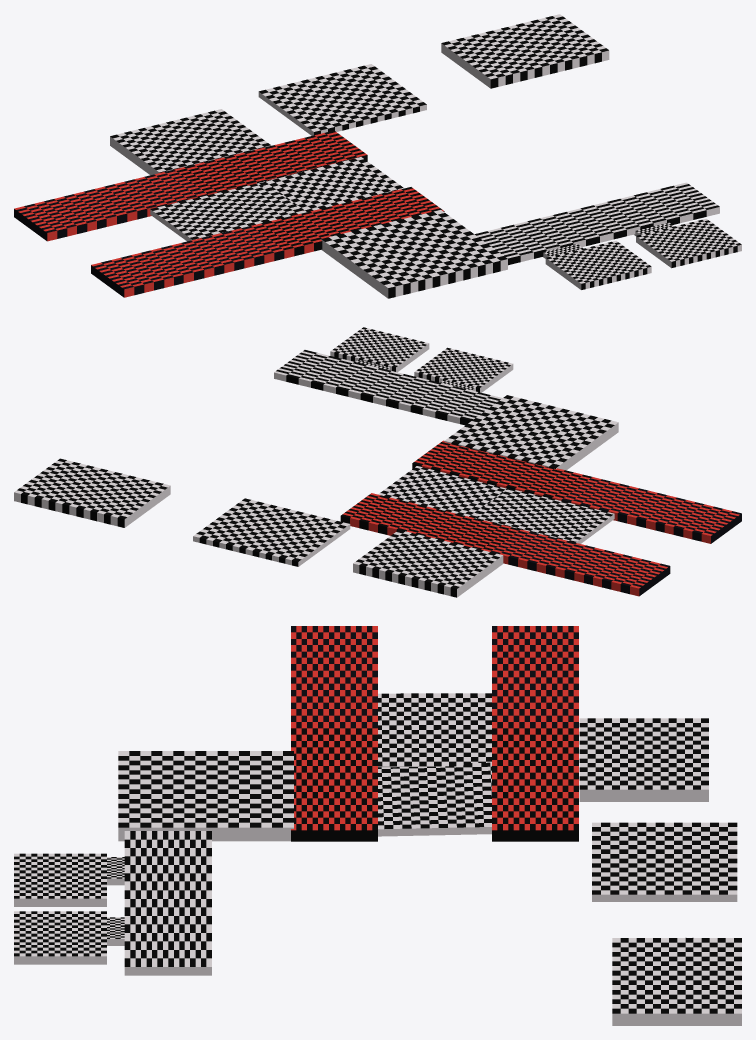
The model's file is ENVIRONMENT_UMUM_FLOOR.fbx.
The picture shows the model from 3 angles, top to bottom: view 1: azimuth 30°, elevation 25°; view 2: azimuth 150°, elevation 25°; view 3: azimuth 270°, elevation 25°; orthographic projection. The views are drawn at different scales.
Parts seen in each view (by area): view 1: Cube.002, Cube.001, Cube.004, Cube.015, Cube.010, Cube.008, Cube.005, Cube.007, Cube.009, Cube.041, Cube.028, Cube.162 (+1 smaller); view 2: Cube.002, Cube.001, Cube.004, Cube.015, Cube.005, Cube.008, Cube.010, Cube.007, Cube.009, Cube.041, Cube.028, Cube.163 (+1 smaller); view 3: Cube.002, Cube.001, Cube.015, Cube.004, Cube.005, Cube.007, Cube.009, Cube.010, Cube.008, Cube.041, Cube.028, Cube.163 (+1 smaller).
Boxes of the visible parts, x1,y1,x2,y2 form: Cube.002: [321, 210, 507, 298]; Cube.001: [474, 182, 719, 265]; Cube.004: [441, 14, 609, 88]; Cube.015: [258, 64, 426, 135]; Cube.010: [91, 226, 284, 297]; Cube.008: [14, 169, 207, 241]; Cube.005: [110, 109, 271, 175]; Cube.007: [174, 130, 367, 194]; Cube.009: [251, 187, 444, 258]; Cube.041: [150, 183, 304, 241]; Cube.028: [258, 157, 404, 212]; Cube.162: [545, 240, 651, 289]; Cube.002: [444, 395, 618, 470]; Cube.001: [274, 350, 502, 425]; Cube.004: [14, 458, 170, 527]; Cube.015: [193, 498, 350, 566]; Cube.005: [353, 530, 503, 597]; Cube.008: [490, 529, 670, 596]; Cube.010: [561, 477, 741, 543]; Cube.007: [340, 493, 520, 551]; Cube.009: [412, 440, 591, 500]; Cube.041: [475, 488, 614, 543]; Cube.028: [378, 466, 507, 517]; Cube.163: [330, 327, 429, 372]; Cube.002: [118, 751, 293, 841]; Cube.001: [124, 831, 211, 975]; Cube.015: [592, 822, 737, 901]; Cube.004: [612, 938, 741, 1025]; Cube.005: [579, 718, 708, 801]; Cube.007: [492, 728, 578, 841]; Cube.009: [291, 728, 377, 841]; Cube.010: [291, 626, 377, 728]; Cube.008: [492, 626, 578, 728]; Cube.041: [378, 693, 491, 767]; Cube.028: [378, 762, 491, 836]; Cube.163: [14, 911, 106, 964].
Size of the model in its own units: 3590 by 127 by 2846.
